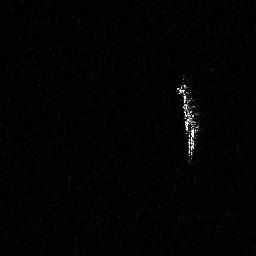ship: (175, 76, 199, 165)
